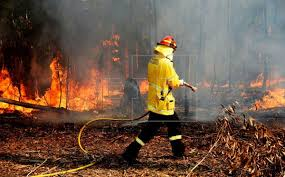fire: (49, 60, 117, 108), (1, 69, 44, 119), (245, 78, 284, 108)
smoke: (177, 2, 280, 79), (66, 3, 98, 67), (195, 76, 241, 112), (130, 8, 148, 73)
